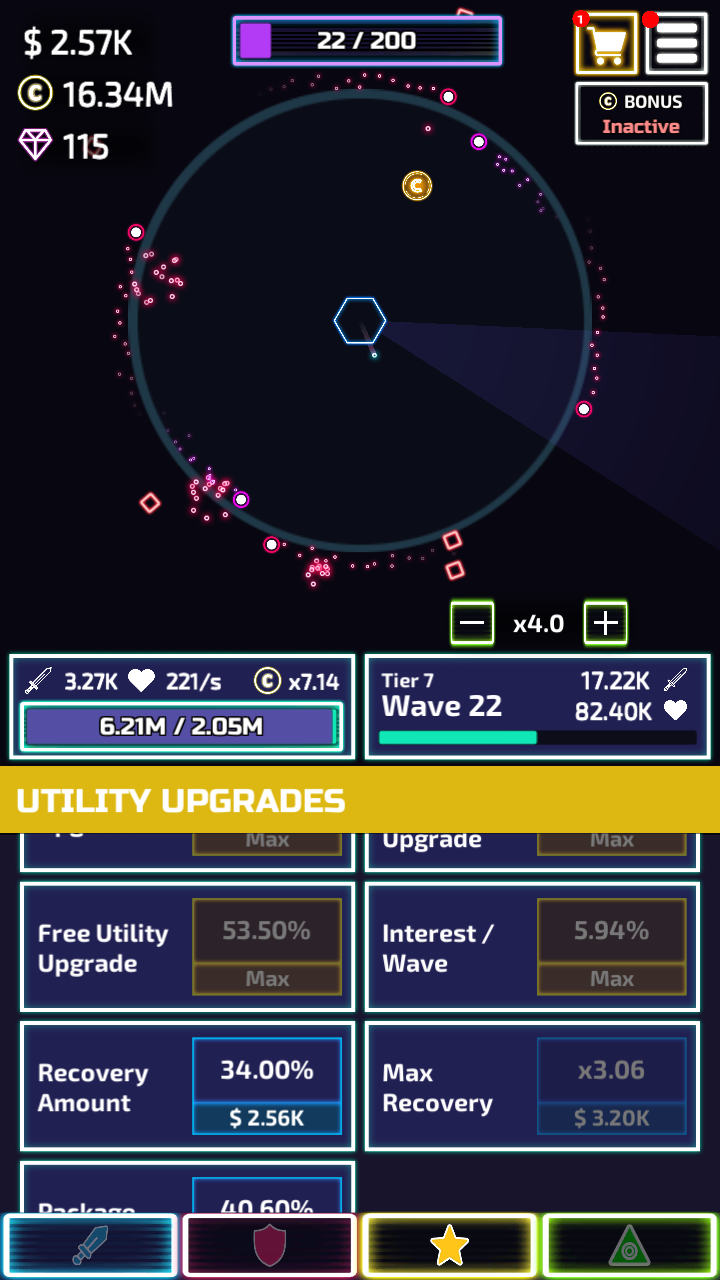B_Menu_Action_Required: (638, 7, 704, 71)
B_Menu_Closed: (572, 10, 708, 73)
B_Slot: (362, 883, 694, 1006), (19, 884, 353, 1004), (20, 1022, 353, 1142), (364, 1023, 694, 1142), (363, 1154, 701, 1208), (21, 1161, 351, 1214), (366, 827, 706, 870), (14, 829, 353, 867)
B_Slot_Button: (188, 1039, 344, 1136), (534, 1038, 688, 1136), (189, 899, 343, 995), (533, 902, 688, 996), (185, 1175, 345, 1218), (188, 826, 347, 855), (533, 827, 695, 854)
B_Slot_Label: (22, 915, 174, 983), (369, 1057, 510, 1125), (22, 1056, 164, 1122), (369, 916, 508, 980), (374, 819, 489, 858)
B_Slot_Maxed: (187, 896, 343, 997), (532, 897, 683, 997)
B_Slot_Price: (210, 1099, 314, 1135), (558, 1101, 660, 1133)
B_Slot_Value: (203, 1048, 324, 1086), (195, 1184, 330, 1218), (204, 911, 325, 948), (551, 911, 662, 950), (557, 1052, 661, 1088)
B_Tab_Utility: (0, 766, 720, 842)
